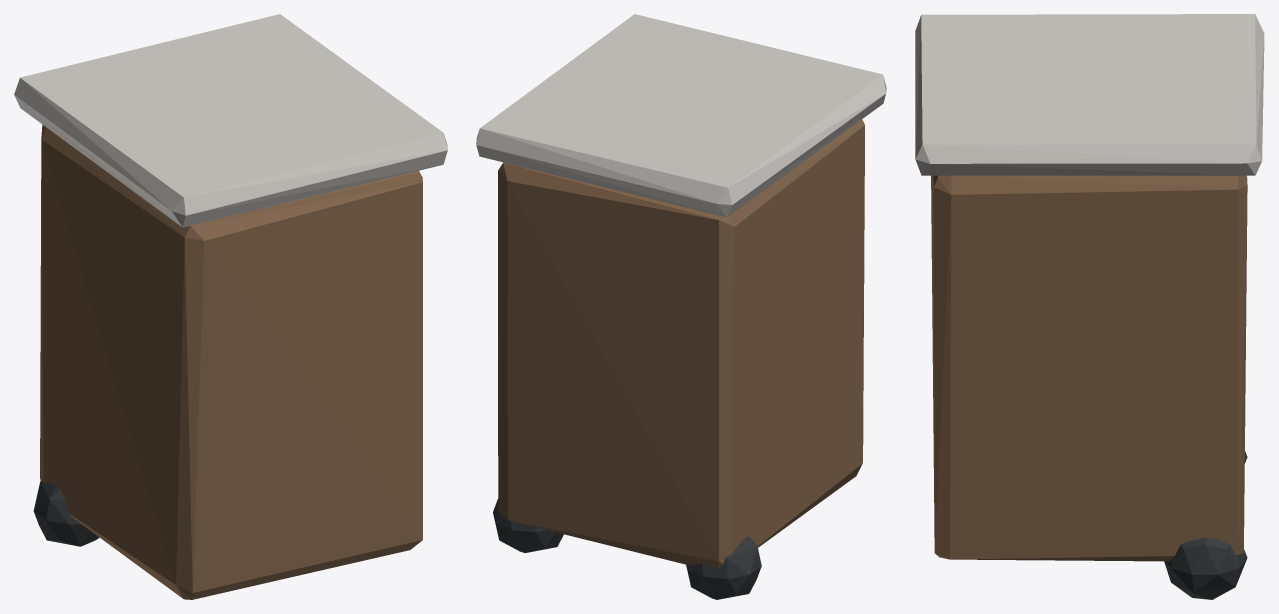
The model's file is SM_Kit_Prop_WheelieBin_LOD1.glb.
3 views of the same model, side by side, from view 1: azimuth 30°, elevation 25°; view 2: azimuth 150°, elevation 25°; view 3: azimuth 270°, elevation 25° (orthographic). The views are drawn at different scales.
Parts seen in each view (by area): view 1: SM_Kit_Prop_WheelieBin_LOD1; view 2: SM_Kit_Prop_WheelieBin_LOD1; view 3: SM_Kit_Prop_WheelieBin_LOD1.
Part boxes in pixels (left/top/right/bottom): SM_Kit_Prop_WheelieBin_LOD1: left=14, top=14, right=447, bottom=599; SM_Kit_Prop_WheelieBin_LOD1: left=476, top=14, right=886, bottom=599; SM_Kit_Prop_WheelieBin_LOD1: left=915, top=14, right=1264, bottom=599.
Size of the model in its own units: 0.614 by 0.9728 by 0.6597.
